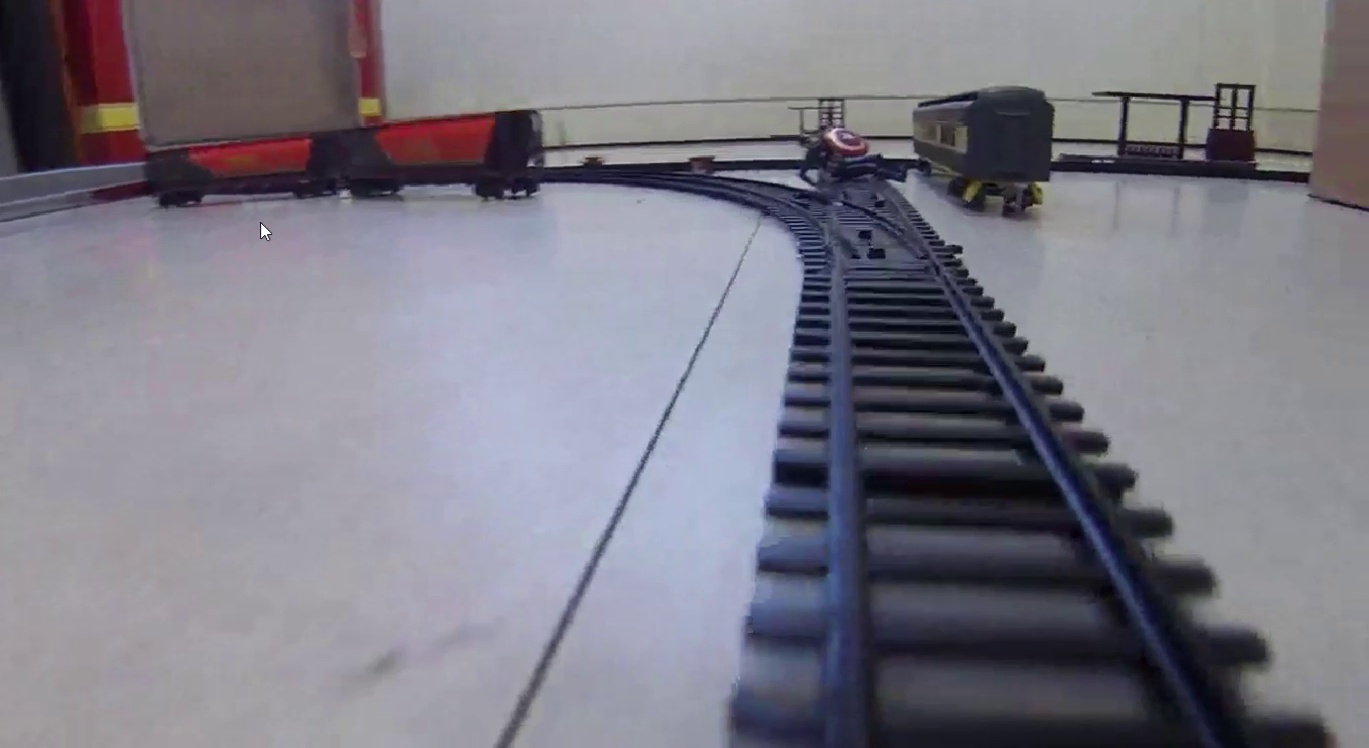people: (796, 130, 913, 184)
